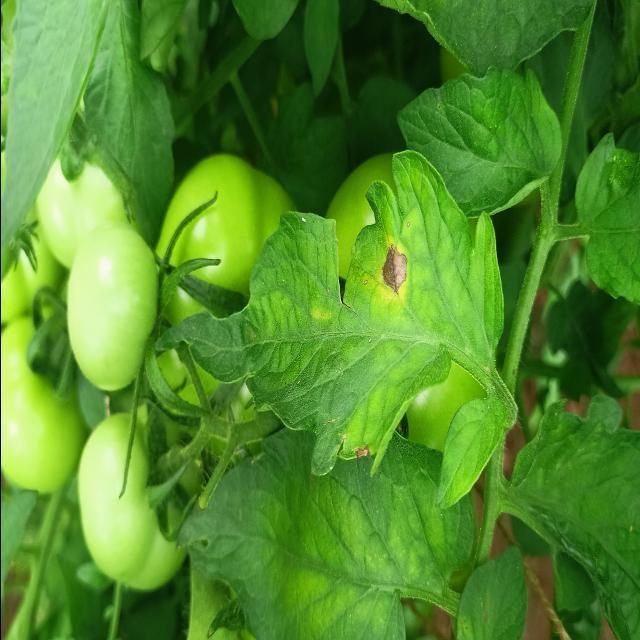Tomato mosaic virus leaf: (150, 147, 447, 481)
